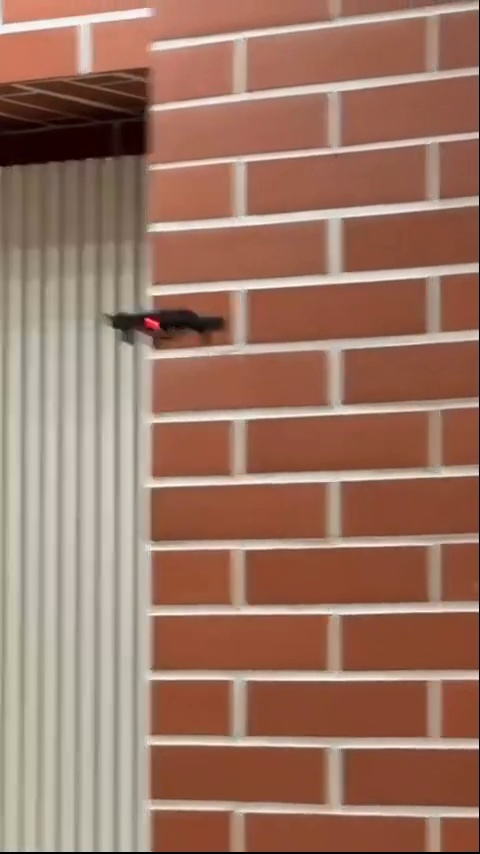drone: (109, 306, 229, 350)
